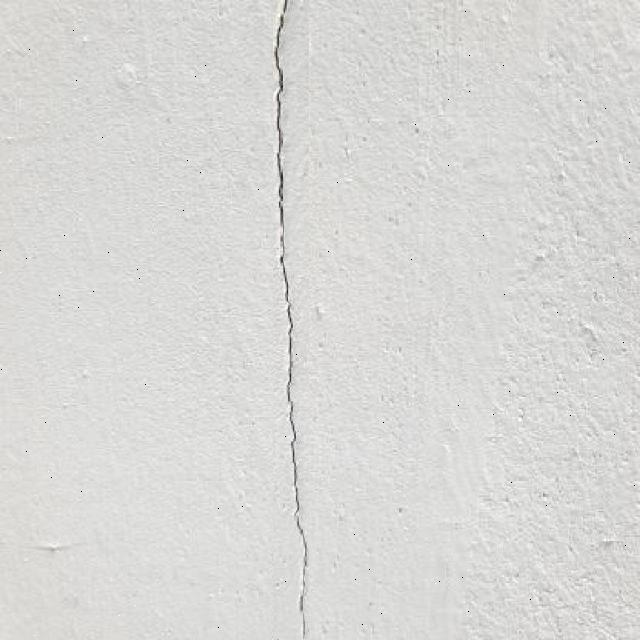crack: (280, 5, 640, 636), (7, 520, 291, 636), (270, 0, 310, 639), (270, 0, 292, 303), (304, 0, 320, 206), (271, 1, 291, 83), (25, 539, 88, 554)
